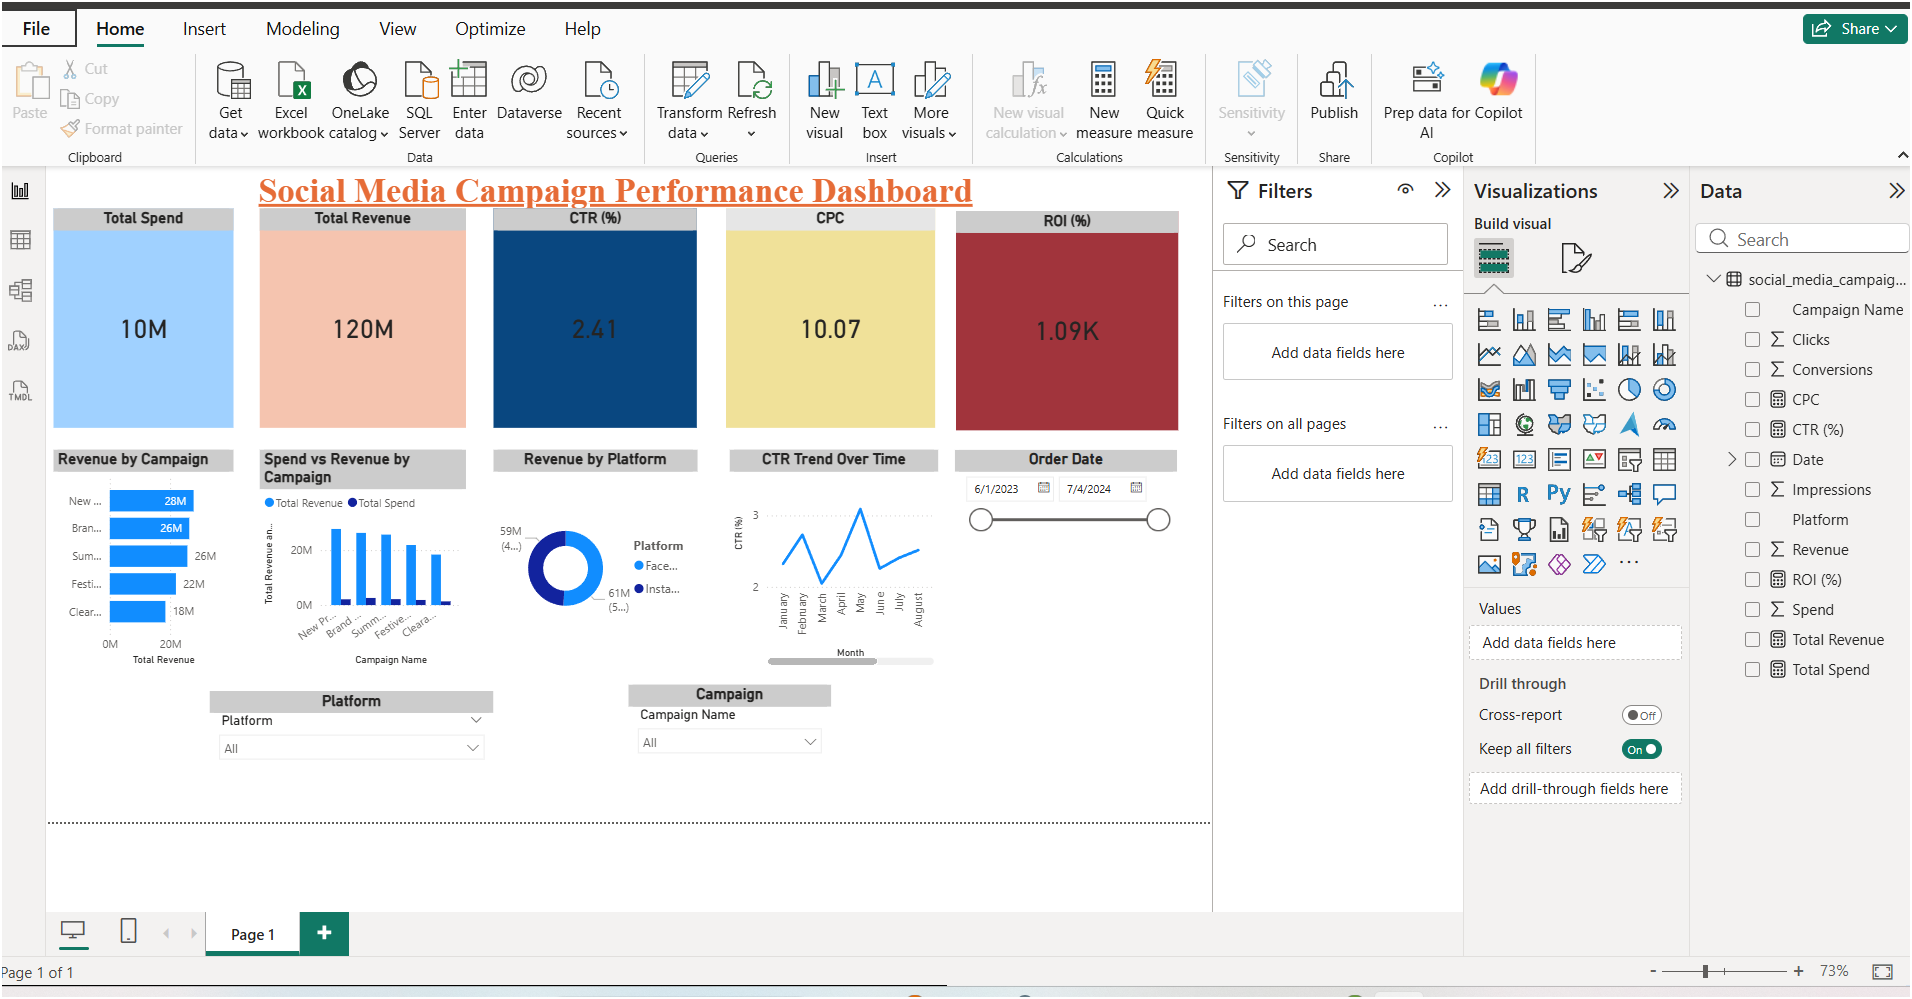

The page's visual inventory and layout, read from the dashboard file:
{"tool":"powerbi","page":{"name":"Page 1","canvas":[1280,720],"ordinal":0},"visuals":[{"type":"textbox","box":[8.7,0,1234.1,92.9],"z":0},{"type":"card","title":"Total Spend","fields":{"Values":["social_media_campaign_task2.Total Spend"]},"box":[8.7,46.5,197.5,241],"z":1},{"type":"card","title":"Total Revenue","fields":{"Values":["social_media_campaign_task2.Total Revenue"]},"box":[235.2,46.5,226.5,241],"z":2},{"type":"card","title":"CTR (%)","fields":{"Values":["social_media_campaign_task2.CTR (%)"]},"box":[490.7,46.5,223.6,241],"z":3},{"type":"card","title":"CPC","fields":{"Values":["social_media_campaign_task2.CPC"]},"box":[746.3,46.5,229.4,241],"z":4},{"type":"card","title":"ROI (%)","fields":{"Values":["social_media_campaign_task2.ROI (%)"]},"box":[998.9,49.4,243.9,241],"z":6},{"type":"clusteredBarChart","title":"Revenue by Campaign","fields":{"Category":["social_media_campaign_task2.Campaign Name"],"Y":["social_media_campaign_task2.Total Revenue"]},"box":[8.2,311.5,197.6,241.5],"z":7},{"type":"clusteredColumnChart","title":"Spend vs Revenue by Campaign","fields":{"Category":["social_media_campaign_task2.Campaign Name"],"Y":["social_media_campaign_task2.Total Revenue","social_media_campaign_task2.Total Spend"]},"box":[234.6,311.5,226.4,241.5],"z":8},{"type":"donutChart","title":"Revenue by Platform","fields":{"Category":["social_media_campaign_task2.Platform"],"Y":["social_media_campaign_task2.Total Revenue"]},"box":[491.3,311.5,223.7,241.5],"z":9},{"type":"lineChart","title":"CTR Trend Over Time","fields":{"Category":["social_media_campaign_task2.Date.Variation.Date Hierarchy.Month"],"Y":["social_media_campaign_task2.CTR (%)"]},"box":[750.6,311.5,229.2,241.5],"z":10},{"type":"slicer","title":"Order Date","fields":{"Values":["social_media_campaign_task2.Date"]},"box":[997.6,311.5,244.3,240.1],"z":11},{"type":"slicer","title":"Platform","fields":{"Values":["social_media_campaign_task2.Platform"]},"box":[179.8,576.3,311.5,119.4],"z":12},{"type":"slicer","title":"Campaign","fields":{"Values":["social_media_campaign_task2.Campaign Name"]},"box":[639.5,569.5,222.3,150.9],"z":13}]}

Visuals, with their boxes on the page's 1280x720 design canvas (x1, y1, x2, y2). These are canvas units, not pixel positions in the 1912x999 screenshot, which may show the page scaled, cropped or inside an application window:
textbox: bbox(9, 0, 1243, 93)
"Total Spend" card: bbox(9, 46, 206, 288)
"Total Revenue" card: bbox(235, 46, 462, 288)
"CTR (%)" card: bbox(491, 46, 714, 288)
"CPC" card: bbox(746, 46, 976, 288)
"ROI (%)" card: bbox(999, 49, 1243, 290)
"Revenue by Campaign" clusteredBarChart: bbox(8, 312, 206, 553)
"Spend vs Revenue by Campaign" clusteredColumnChart: bbox(235, 312, 461, 553)
"Revenue by Platform" donutChart: bbox(491, 312, 715, 553)
"CTR Trend Over Time" lineChart: bbox(751, 312, 980, 553)
"Order Date" slicer: bbox(998, 312, 1242, 552)
"Platform" slicer: bbox(180, 576, 491, 696)
"Campaign" slicer: bbox(640, 570, 862, 720)
